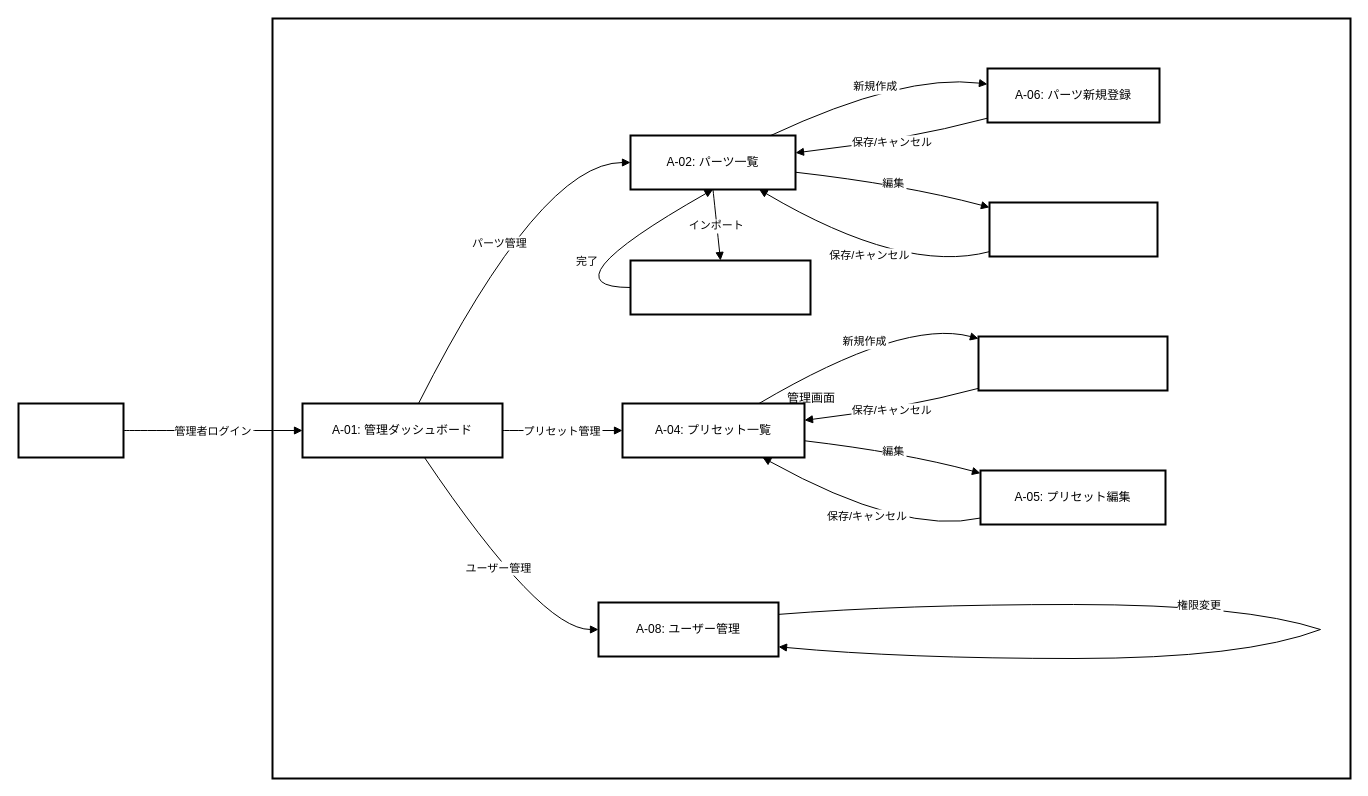
The diagram is 1368 pixels wide and 796 high, and some of its shapes have lost their labels. Here are the shapes that lost their labels. From the top down, the centre of each, then its label:
the point at 1073,229: A-03: パーツ編集
the point at 720,287: A-09: パーツインポート
the point at 1072,363: A-07: プリセット新規登録
the point at 70,430: ログイン
